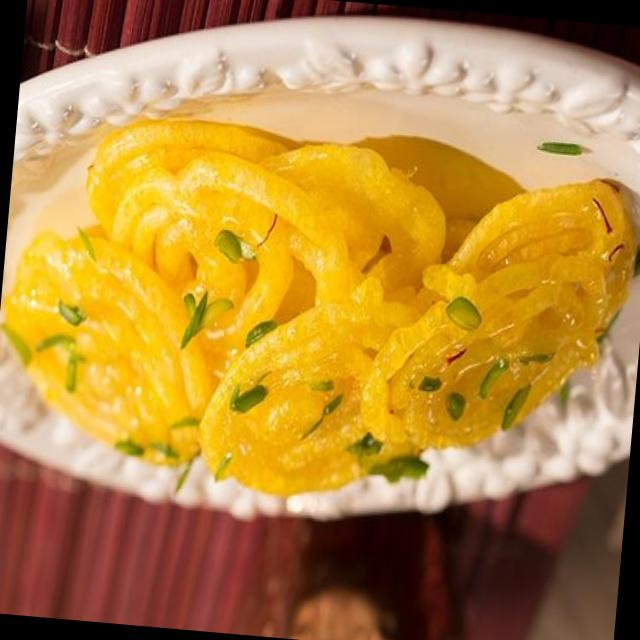jalebi: (8, 119, 617, 518)
